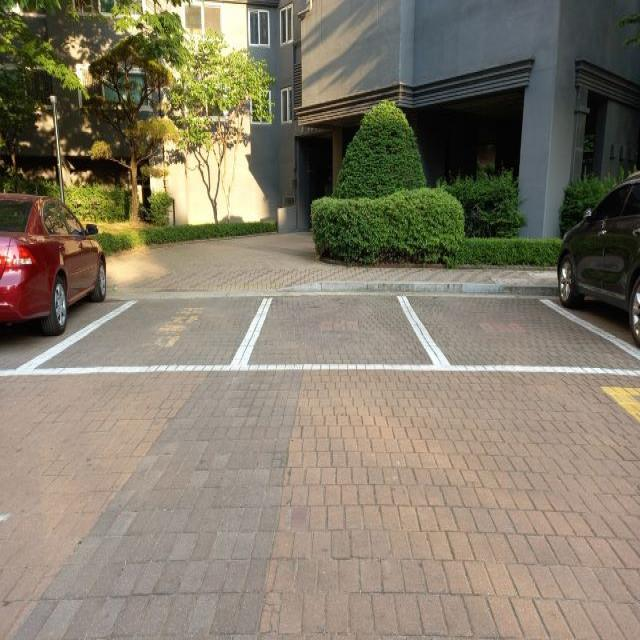Car: (552, 134, 640, 379), (0, 180, 108, 370)
Free: (393, 278, 640, 394), (35, 271, 265, 374), (233, 266, 448, 374)
